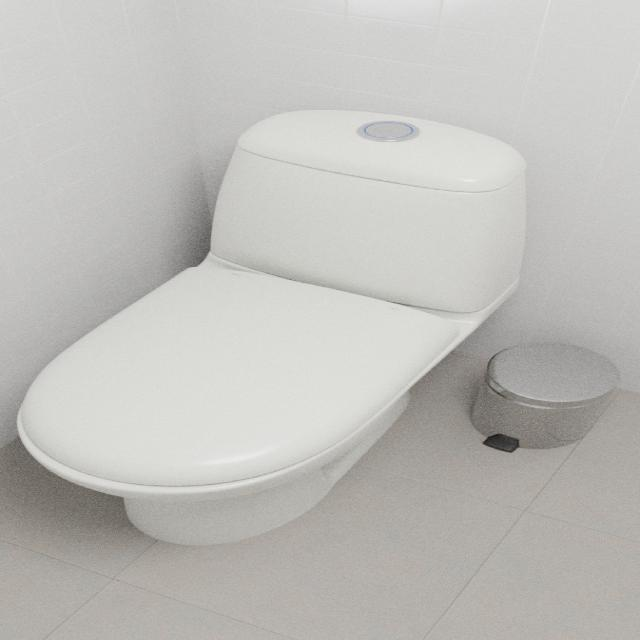toilet: (15, 108, 527, 546)
